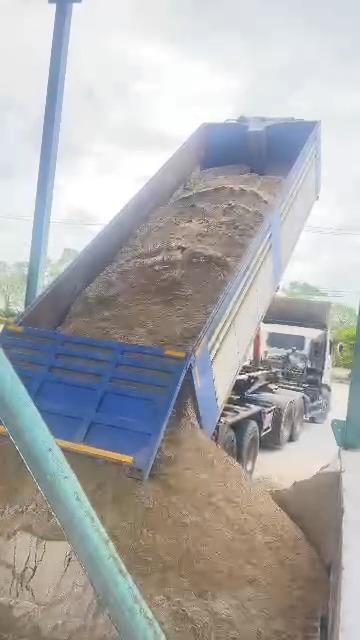sand: (70, 395, 327, 639), (62, 166, 280, 348), (0, 443, 110, 639), (271, 462, 341, 567)
